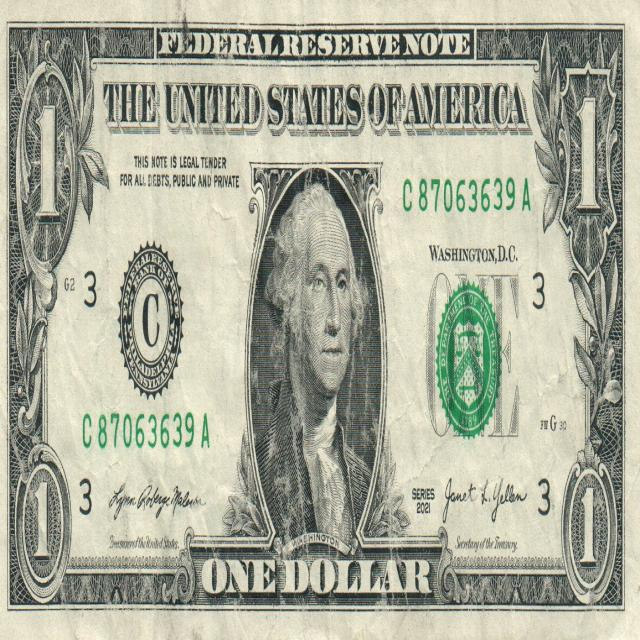SerialNumber: (83, 413, 209, 449), (403, 178, 530, 213)
